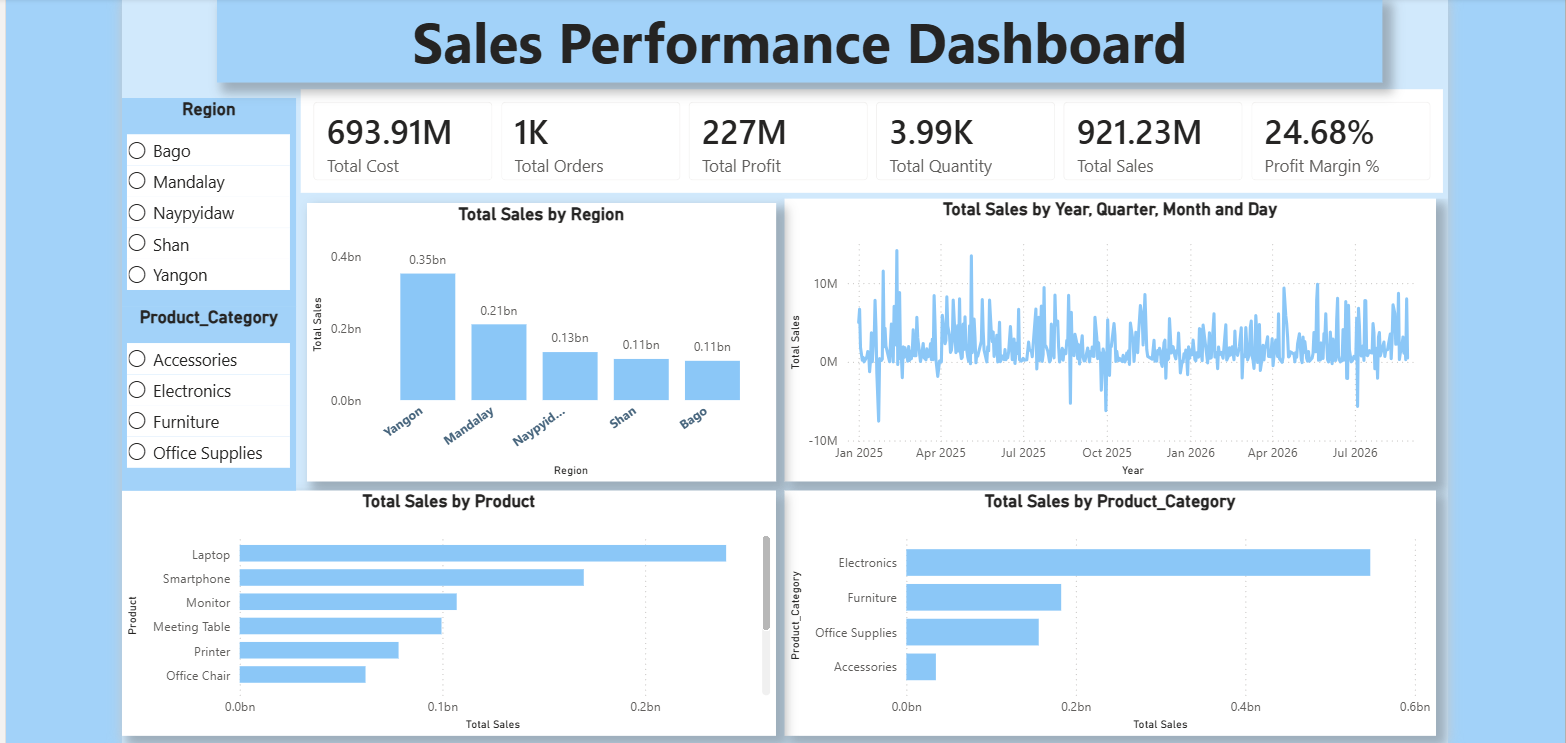

This screenshot's page, from the dashboard's own definition file:
{"tool":"powerbi","page":{"name":"Sales Performance Dashboard","canvas":[1280,720],"ordinal":0},"visuals":[{"type":"lineChart","fields":{"Y":["Sales_Data_Clean$.Total Sales"],"Category":["Sales_Data_Clean$.Order_Date.Variation.Date Hierarchy.Year","Sales_Data_Clean$.Order_Date.Variation.Date Hierarchy.Quarter","Sales_Data_Clean$.Order_Date.Variation.Date Hierarchy.Month","Sales_Data_Clean$.Order_Date.Variation.Date Hierarchy.Day"]},"box":[639.4,193,628.6,273.9],"z":0},{"type":"cardVisual","fields":{"Data":["Sales_Data_Clean$.Total Cost","Sales_Data_Clean$.Total Orders","Sales_Data_Clean$.Total Profit","Sales_Data_Clean$.Total Quantity","Sales_Data_Clean$.Total Sales","Sales_Data_Clean$.Profit Margin %"]},"box":[167.5,83.2,1112.8,110.1],"z":1},{"type":"clusteredColumnChart","fields":{"Category":["Sales_Data_Clean$.Region"],"Y":["Sales_Data_Clean$.Total Sales"]},"box":[178.6,197.9,452.4,269],"z":2},{"type":"clusteredBarChart","fields":{"Category":["Sales_Data_Clean$.Product_Category"],"Y":["Sales_Data_Clean$.Total Sales"]},"box":[639.4,475.3,628.6,236.5],"z":3},{"type":"clusteredBarChart","fields":{"Category":["Sales_Data_Clean$.Product"],"Y":["Sales_Data_Clean$.Total Sales"]},"box":[0,475.3,631,236.5],"z":4},{"type":"listSlicer","fields":{"Values":["Sales_Data_Clean$.Region"]},"box":[0,96.5,167.7,201.5],"z":5},{"type":"listSlicer","fields":{"Values":["Sales_Data_Clean$.Product_Category"]},"box":[0,298,167.7,177.3],"z":6},{"type":"textbox","box":[91.7,0,1125,81.9],"z":7}]}

Visuals, with their boxes in screenshot pixels (x1, y1, x2, y2):
lineChart - Sales_Data_Clean$.Total Sales x Sales_Data_Clean$.Order_Date.Variation.Date Hierarchy.Year: l=785, t=204, r=1424, b=483
cardVisual - Sales_Data_Clean$.Total Cost x Sales_Data_Clean$.Total Orders: l=305, t=93, r=1436, b=205
clusteredColumnChart - Sales_Data_Clean$.Region x Sales_Data_Clean$.Total Sales: l=316, t=209, r=776, b=483
clusteredBarChart - Sales_Data_Clean$.Product_Category x Sales_Data_Clean$.Total Sales: l=785, t=491, r=1424, b=732
clusteredBarChart - Sales_Data_Clean$.Product x Sales_Data_Clean$.Total Sales: l=135, t=491, r=776, b=732
listSlicer - Sales_Data_Clean$.Region: l=135, t=106, r=305, b=311
listSlicer - Sales_Data_Clean$.Product_Category: l=135, t=311, r=305, b=491
textbox: l=228, t=8, r=1371, b=91
